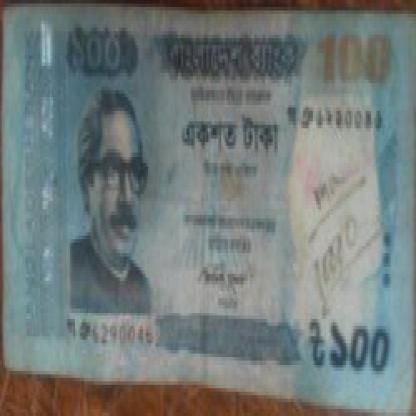one hundred taka: (314, 28, 398, 94), (328, 315, 393, 382), (65, 18, 135, 76)
